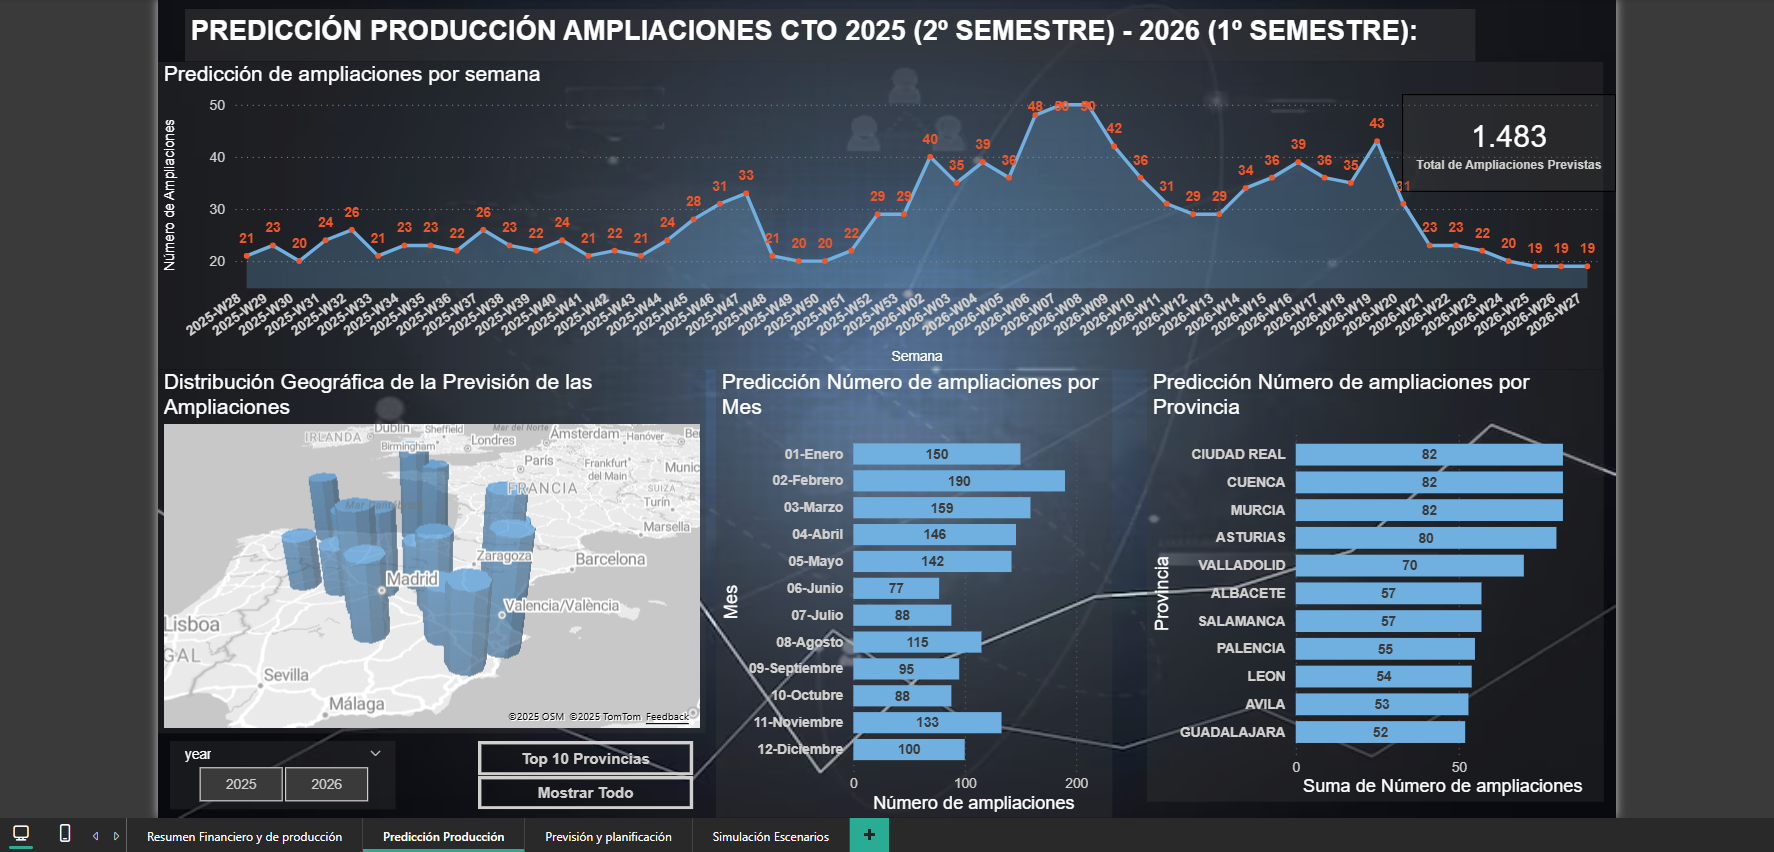

What the dashboard file says about the page in this screenshot:
{"tool":"powerbi","page":{"name":"Predicción trabajo","canvas":[1280,720],"ordinal":1},"visuals":[{"type":"lineChart","title":"Predicción de ampliaciones por semana","fields":{"Y":["Sum(ts_LGBM_pred_final.Número de ampliaciones)"],"Category":["ts_LGBM_pred_final.week_year"]},"box":[9.7,0,1259.6,286.9],"z":0},{"type":"slicer","fields":{"Values":["ts_LGBM_pred_final.year"]},"box":[0,587.5,172.9,102.3],"z":1000},{"type":"card","fields":{"Values":["Medidas.Total Ampliaciones"]},"box":[0,279.7,172.9,86.9],"z":2000},{"type":"clusteredBarChart","fields":{"Category":["ampliaciones semana provincia.Provincia"],"Y":["Sum(Pred provincia ampliaciones semana.Número de ampliaciones)"]},"box":[868.1,287,401,417.3],"z":3000},{"type":"clusteredBarChart","fields":{"Category":["ampliaciones semana provincia.Provincia"],"Y":["Sum(ampliaciones semana provincia.Número de ampliaciones)"]},"box":[868.1,279.7,400.1,439.9],"z":4000},{"type":"actionButton","title":"Top 10 Provincias","box":[0,467.1,172.9,48],"z":5000},{"type":"actionButton","title":"Mostrar todo","box":[0,515.1,172.9,48],"z":6000},{"type":"clusteredBarChart","fields":{"Category":["Pred ampliaicones semana.Month"],"Y":["Sum(Pred ampliaicones semana.Número de ampliaciones)"]},"box":[354.9,303.3,442.7,350.3],"z":7000}]}

Visuals, with their boxes on the page's 1280x720 design canvas (x1, y1, x2, y2). These are canvas units, not pixel positions in the 1774x852 screenshot, which may show the page scaled, cropped or inside an application window:
"Predicción de ampliaciones por semana" lineChart: l=10, t=0, r=1269, b=287
slicer - ts_LGBM_pred_final.year: l=0, t=588, r=173, b=690
card - Medidas.Total Ampliaciones: l=0, t=280, r=173, b=367
clusteredBarChart - ampliaciones semana provincia.Provincia x Sum(Pred provincia ampliaciones semana.Número de ampliaciones): l=868, t=287, r=1269, b=704
clusteredBarChart - ampliaciones semana provincia.Provincia x Sum(ampliaciones semana provincia.Número de ampliaciones): l=868, t=280, r=1268, b=720
"Top 10 Provincias" actionButton: l=0, t=467, r=173, b=515
"Mostrar todo" actionButton: l=0, t=515, r=173, b=563
clusteredBarChart - Pred ampliaicones semana.Month x Sum(Pred ampliaicones semana.Número de ampliaciones): l=355, t=303, r=798, b=654
